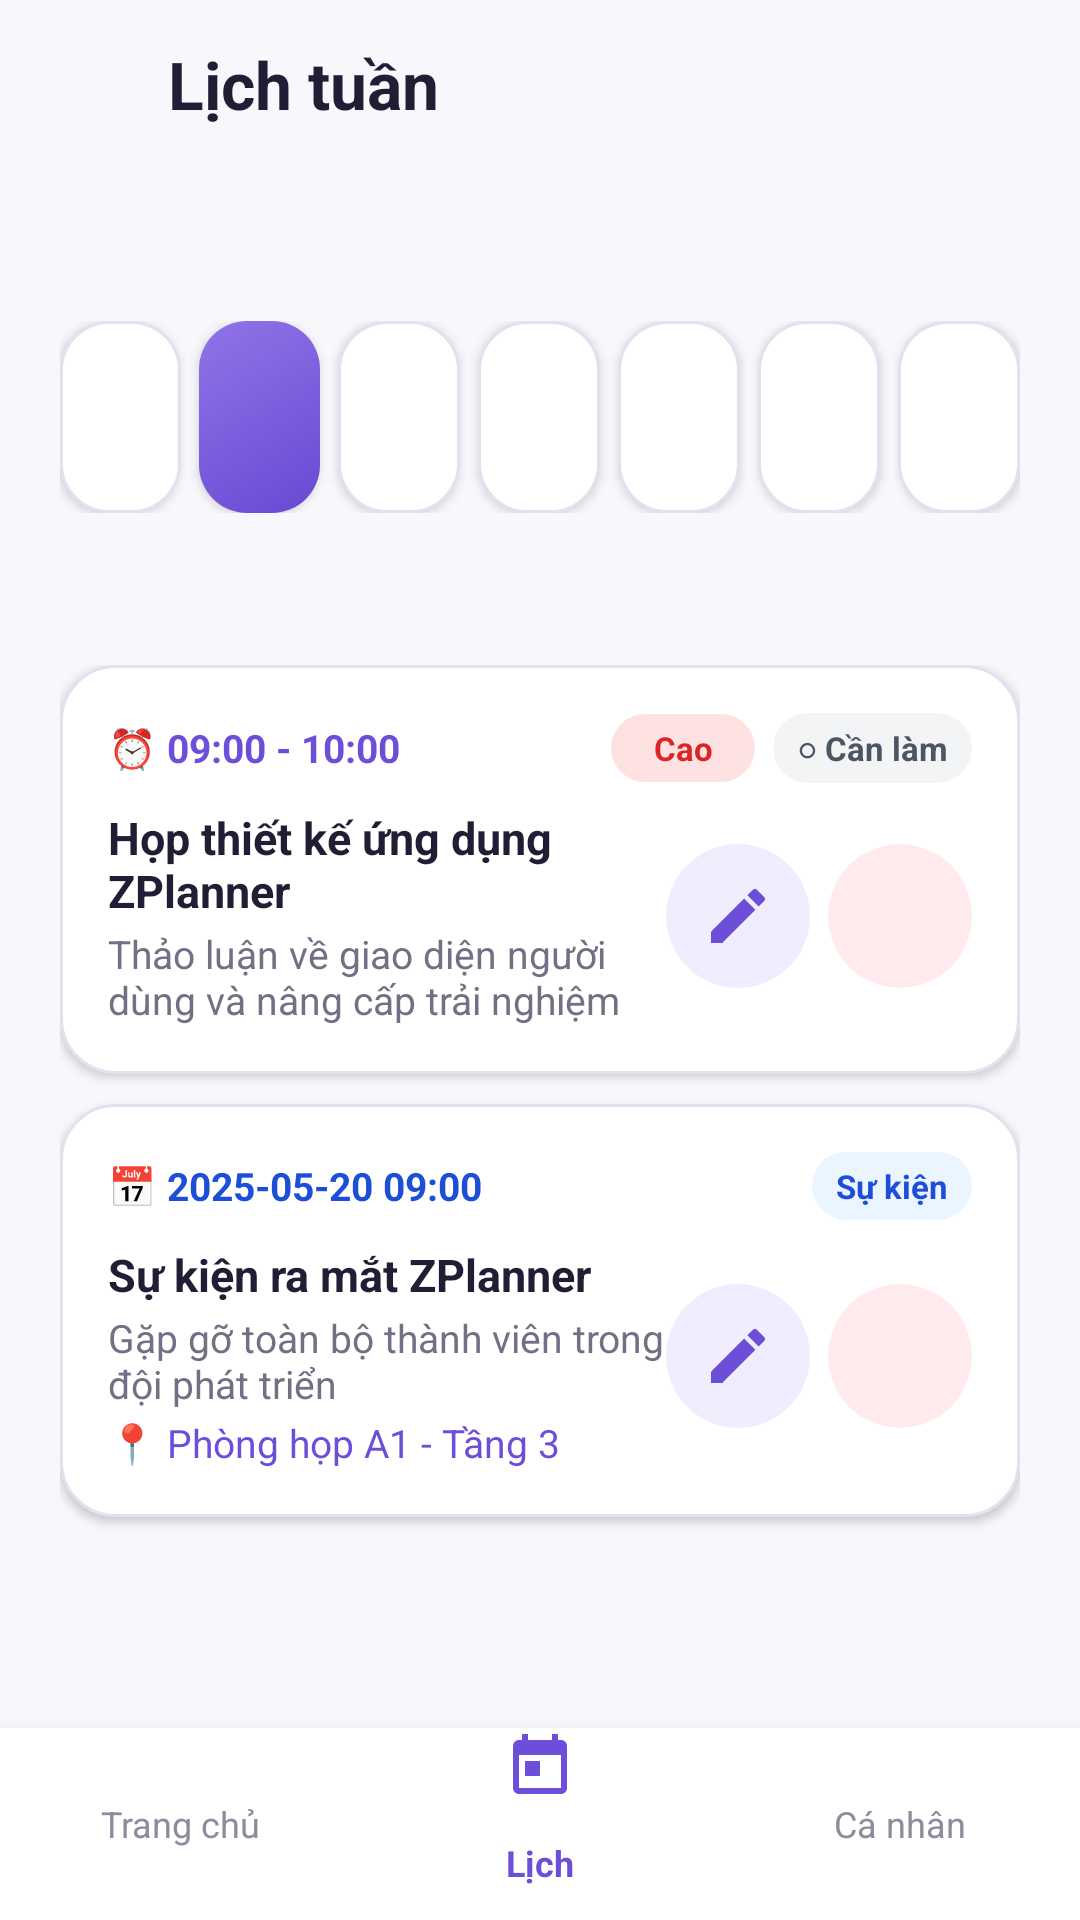

Screen size 1080×1920. Icon name, then its center in pixels as (x,y):
Sửa: (738,916), (738,1356)
